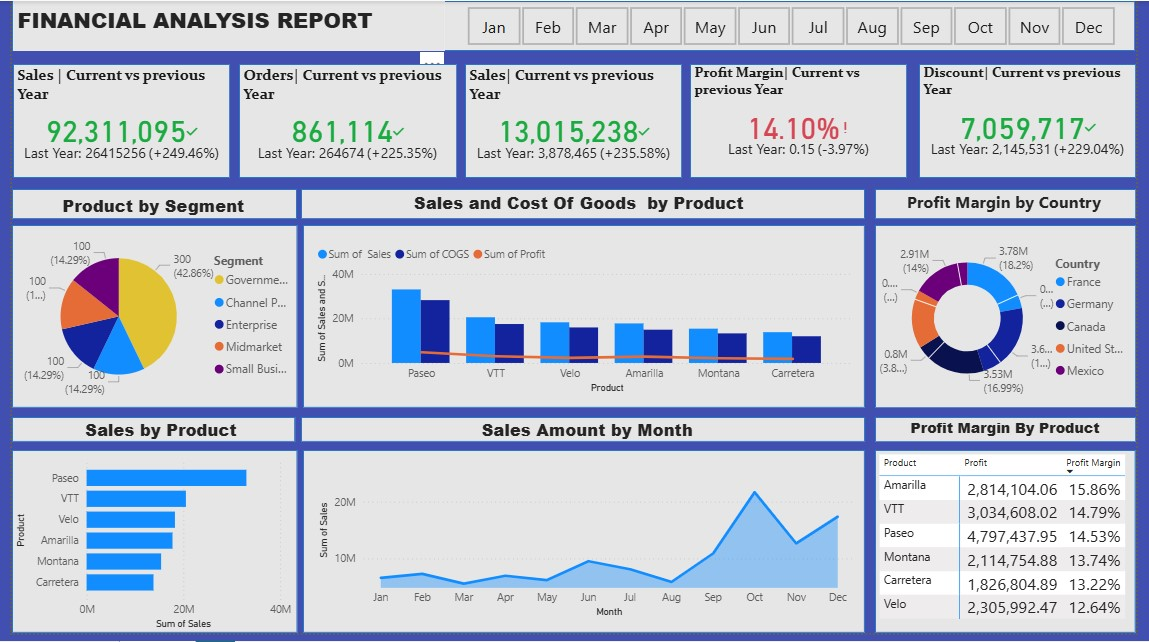

The page's visual inventory and layout, read from the dashboard file:
{"tool":"powerbi","page":{"name":"Page 1","canvas":[1280,720],"ordinal":0},"visuals":[{"type":"shape","box":[0,0,1279.4,57],"z":0},{"type":"shape","box":[1.1,71.8,247.2,129.9],"z":1000},{"type":"shape","box":[0,255.7,325.1,208.2],"z":2000},{"type":"shape","box":[331.6,511.5,640,208.2],"z":3000},{"type":"shape","box":[331.6,255.7,640,208.2],"z":4000},{"type":"shape","box":[0,511.5,325.1,208.2],"z":5000},{"type":"shape","box":[0,474.2,322.6,28.3],"z":6000},{"type":"shape","box":[983.2,214.2,297.3,34.2],"z":7000},{"type":"shape","box":[329.2,214.2,642.5,34.2],"z":8000},{"type":"shape","box":[0,214.2,324.7,34.2],"z":9000},{"type":"shape","box":[329,474.2,642.6,28.3],"z":10000},{"type":"textbox","box":[1.1,0,492.2,57],"z":11000},{"type":"lineClusteredColumnComboChart","fields":{"Y":["Sum(Sales. Sales)","Sum(Sales.COGS)"],"Y2":["Sum(Sales.Profit)"],"Category":["Sales.Product"]},"box":[343.1,268.6,619.4,182.5],"z":12000},{"type":"areaChart","fields":{"Y":["Sum(Sales. Sales)"],"Category":["Date.Month"]},"box":[345.7,524.3,619.4,182.5],"z":13000},{"type":"pieChart","fields":{"Category":["Sales.Segment"],"Y":["CountNonNull(Sales.Product)"]},"box":[7.7,255.7,321.3,208.2],"z":14000},{"type":"barChart","fields":{"Category":["Sales.Product"],"Y":["Sum(Sales. Sales)"]},"box":[0,511.5,322.6,208.2],"z":15000},{"type":"shape","box":[983.1,511.5,296.9,208.2],"z":16000},{"type":"pivotTable","fields":{"Rows":["Sales.Product"],"Values":["All Measure.Profit","All Measure.Profit Margin"]},"box":[983.2,511.5,296.2,208.5],"z":17000},{"type":"shape","box":[983.2,255.2,297.3,208.5],"z":18000},{"type":"shape","box":[983.2,473.9,297.3,28.5],"z":19000},{"type":"donutChart","fields":{"Category":["Sales.Country"],"Y":["Sum(Sales.Profit)","All Measure.Profit LY"]},"box":[983.2,258.6,297.3,205.1],"z":20000},{"type":"textbox","box":[10.3,469.4,319,42.2],"z":21000},{"type":"textbox","box":[0,214.2,322.4,44.4],"z":22000},{"type":"textbox","box":[333.8,469.4,649.4,42.2],"z":23000},{"type":"textbox","box":[983.2,469.4,296.2,42.2],"z":24000},{"type":"textbox","box":[980.9,210.8,298.5,41],"z":25000},{"type":"textbox","box":[322.4,210.8,647.1,44.4],"z":26000},{"type":"slicer","fields":{"Values":["Date.Month"]},"box":[493.3,0,787,57],"z":28000},{"type":"shape","box":[258.6,71.8,248.4,129.9],"z":29000},{"type":"shape","box":[772.4,71.8,247.2,129.9],"z":30000},{"type":"shape","box":[516.1,71.8,247.2,129.9],"z":31000},{"type":"shape","box":[1033.3,71.8,247.2,129.9],"z":32000},{"type":"kpi","title":"Sales | Current vs previous Year","fields":{"Indicator":["All Measure.Sale Amount"],"Goal":["All Measure.Sale Amount LY"],"TrendLine":["Date.YEAR"]},"box":[1.1,72.9,247.2,128.7],"z":33000},{"type":"kpi","title":"Orders| Current vs previous Year","fields":{"Indicator":["All Measure.Orders"],"Goal":["All Measure.Orders LY"],"TrendLine":["Date.YEAR"]},"box":[258.6,72.9,247.2,128.7],"z":34000},{"type":"kpi","title":"Sales| Current vs previous Year","fields":{"Indicator":["All Measure.Profit"],"Goal":["All Measure.Profit LY"],"TrendLine":["Date.YEAR"]},"box":[516.1,72.9,247.2,128.7],"z":35000},{"type":"kpi","title":"Profit Margin| Current vs previous Year","fields":{"Indicator":["All Measure.Profit Margin"],"Goal":["All Measure.Profit Margin LY"],"TrendLine":["Date.YEAR"]},"box":[772.4,71.8,247.2,128.7],"z":36000},{"type":"kpi","title":"Discount| Current vs previous Year","fields":{"Indicator":["All Measure.Discount"],"Goal":["All Measure.Discount LY"],"TrendLine":["Date.YEAR"]},"box":[1033.3,71.8,247.2,128.7],"z":37000}]}

Visuals, with their boxes in screenshot pixels (x1, y1, x2, y2), scaled from the page's 1280x720 canvas onto the 1149x642 screenshot:
shape: box=[0, 0, 1148, 51]
shape: box=[1, 64, 223, 180]
shape: box=[0, 228, 292, 414]
shape: box=[298, 456, 872, 641]
shape: box=[298, 228, 872, 414]
shape: box=[0, 456, 292, 641]
shape: box=[0, 423, 290, 448]
shape: box=[883, 191, 1148, 221]
shape: box=[296, 191, 872, 221]
shape: box=[0, 191, 291, 221]
shape: box=[295, 423, 872, 448]
textbox: box=[1, 0, 443, 51]
lineClusteredColumnComboChart - Sum(Sales. Sales) x Sum(Sales.COGS): box=[308, 240, 864, 402]
areaChart - Sum(Sales. Sales) x Date.Month: box=[310, 468, 866, 630]
pieChart - Sales.Segment x CountNonNull(Sales.Product): box=[7, 228, 295, 414]
barChart - Sales.Product x Sum(Sales. Sales): box=[0, 456, 290, 641]
shape: box=[882, 456, 1148, 641]
pivotTable - Sales.Product x All Measure.Profit: box=[883, 456, 1148, 641]
shape: box=[883, 228, 1148, 413]
shape: box=[883, 423, 1148, 448]
donutChart - Sales.Country x Sum(Sales.Profit): box=[883, 231, 1148, 413]
textbox: box=[9, 419, 296, 456]
textbox: box=[0, 191, 289, 231]
textbox: box=[300, 419, 883, 456]
textbox: box=[883, 419, 1148, 456]
textbox: box=[881, 188, 1148, 225]
textbox: box=[289, 188, 870, 228]
slicer - Date.Month: box=[443, 0, 1148, 51]
shape: box=[232, 64, 455, 180]
shape: box=[693, 64, 915, 180]
shape: box=[463, 64, 685, 180]
shape: box=[928, 64, 1148, 180]
"Sales | Current vs previous Year" kpi: box=[1, 65, 223, 180]
"Orders| Current vs previous Year" kpi: box=[232, 65, 454, 180]
"Sales| Current vs previous Year" kpi: box=[463, 65, 685, 180]
"Profit Margin| Current vs previous Year" kpi: box=[693, 64, 915, 179]
"Discount| Current vs previous Year" kpi: box=[928, 64, 1148, 179]
